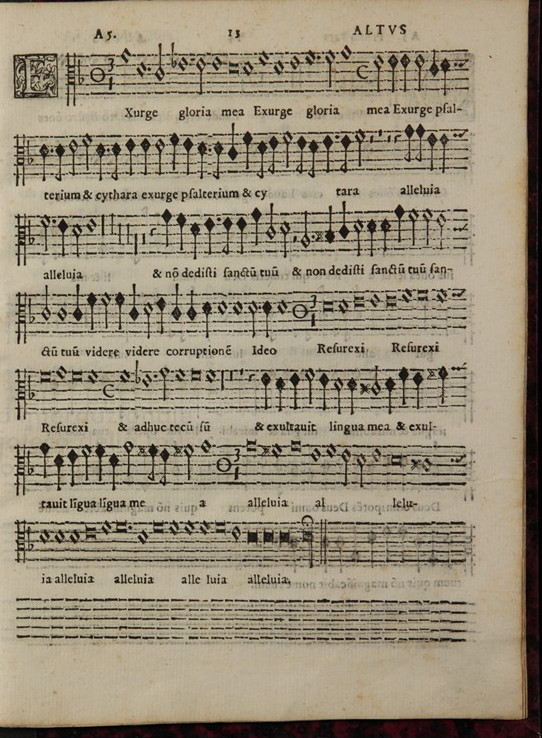breve rest: (138, 209, 148, 258)
c clef_7: (11, 207, 27, 264)
custos_7: (448, 216, 473, 242)
flat_8: (24, 214, 37, 249)
fusa rest: (146, 205, 158, 260)
fusa_5: (221, 209, 231, 257)
longa rest: (97, 204, 107, 262), (130, 207, 140, 260), (114, 208, 124, 257), (122, 208, 132, 257), (107, 201, 115, 258)
minim rest: (289, 204, 299, 255)
minim_4: (35, 208, 51, 258), (420, 202, 435, 247), (406, 203, 420, 247)
minim_5: (434, 206, 448, 251)
minim_6: (277, 213, 291, 258), (351, 212, 365, 256), (70, 216, 84, 259)
minim_7: (264, 199, 277, 244)
minim_9: (299, 208, 311, 251)
point: (45, 213, 59, 229), (211, 213, 223, 228), (306, 230, 315, 242)
semibreve_5: (84, 211, 98, 237)
semiminim_3: (393, 199, 407, 247), (250, 202, 263, 249), (160, 204, 172, 250)
semiminim_4: (174, 206, 188, 256)
semiminim_5: (202, 211, 215, 258), (234, 210, 247, 257), (57, 211, 69, 259)
semiminim_6: (187, 215, 201, 263), (378, 212, 393, 256), (364, 212, 378, 259)
semiminim_7: (337, 197, 352, 245)
semiminim_8: (323, 201, 337, 248)
sharp: (311, 227, 328, 247)
